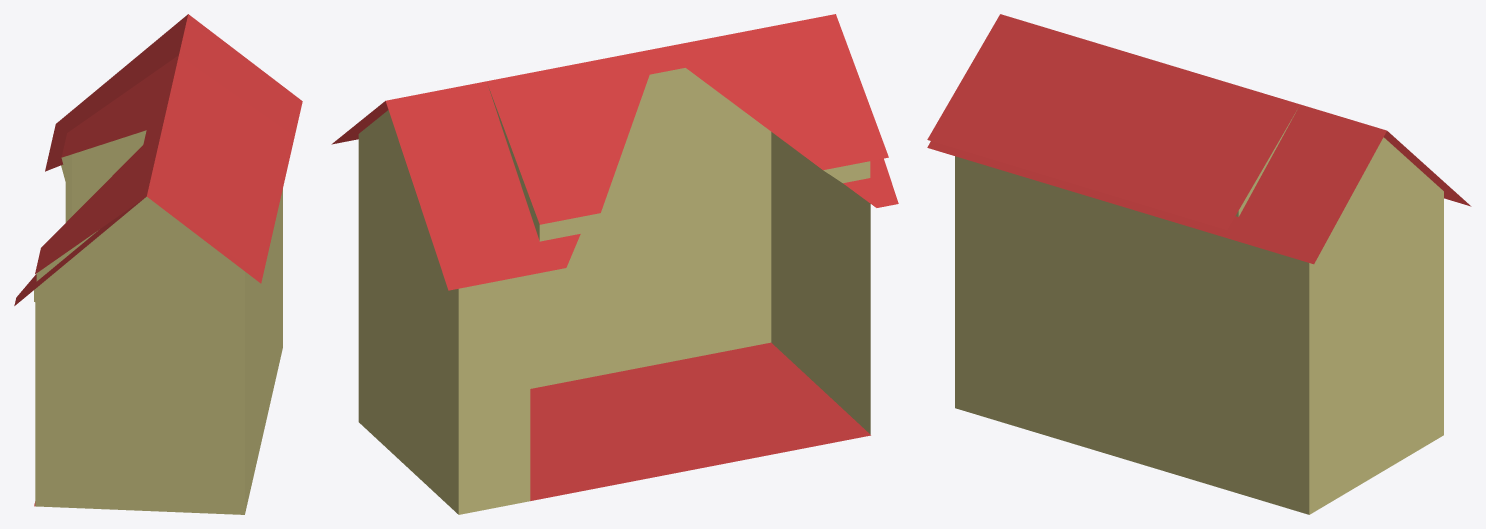
The picture shows the model from 3 angles, left to right: view 1: azimuth 30°, elevation 25°; view 2: azimuth 150°, elevation 25°; view 3: azimuth 270°, elevation 25°; orthographic projection. The views are drawn at different scales.
Size of the model in its own units: 18.79 by 20.59 by 14.71.
